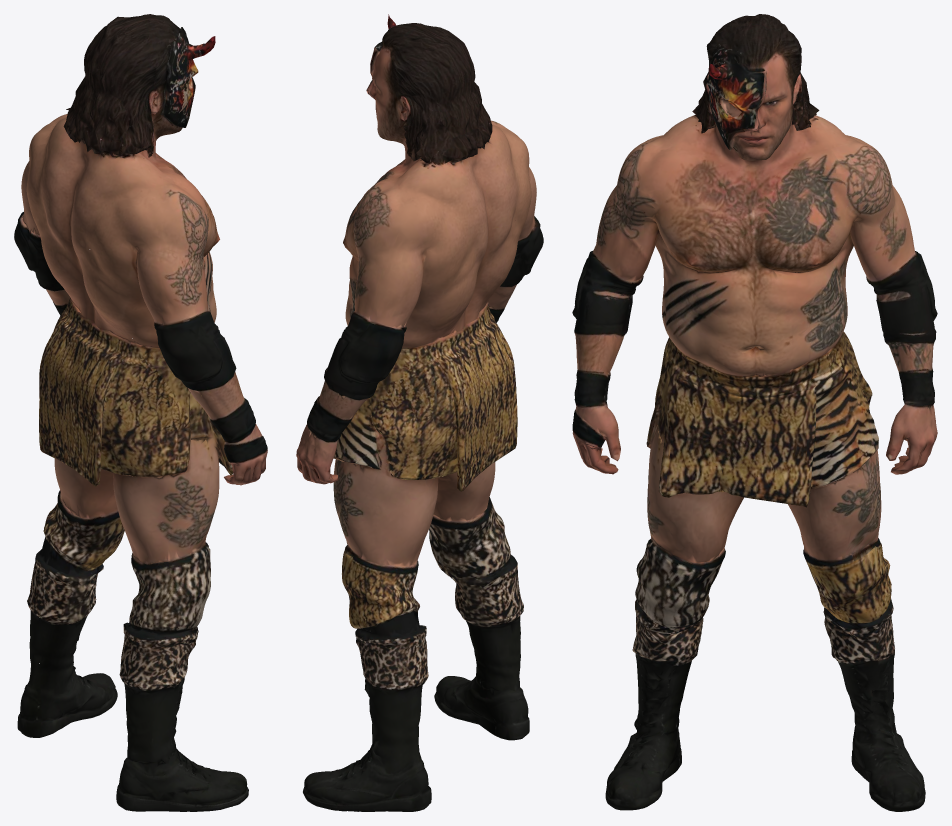
The model's file is TARZANIAN_DEVIL_dec.glb.
3 views of the same model, side by side, from view 1: azimuth 30°, elevation 25°; view 2: azimuth 150°, elevation 25°; view 3: azimuth 270°, elevation 25° (orthographic). The views are drawn at different scales.
Visible parts, largest first — view 1: tripo_node_ef2f5f80-4ff6-41c8-8f95-3b2d97aabec3; view 2: tripo_node_ef2f5f80-4ff6-41c8-8f95-3b2d97aabec3; view 3: tripo_node_ef2f5f80-4ff6-41c8-8f95-3b2d97aabec3.
Part boxes in pixels (left/top/right/bottom): tripo_node_ef2f5f80-4ff6-41c8-8f95-3b2d97aabec3: left=14, top=14, right=267, bottom=811; tripo_node_ef2f5f80-4ff6-41c8-8f95-3b2d97aabec3: left=296, top=14, right=543, bottom=811; tripo_node_ef2f5f80-4ff6-41c8-8f95-3b2d97aabec3: left=572, top=14, right=937, bottom=811.
Size of the model in its own units: 0.1968 by 0.9803 by 0.4209.
1 material, 1 textured.
